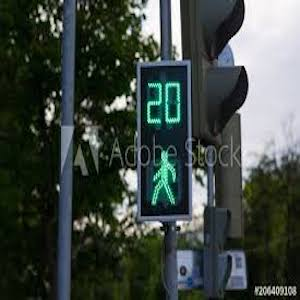green: (142, 149, 184, 207)
